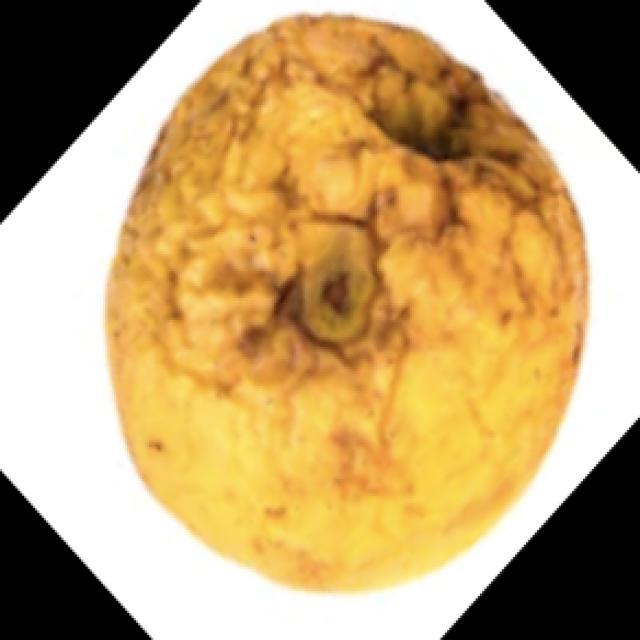Rotten: (105, 25, 588, 583)
